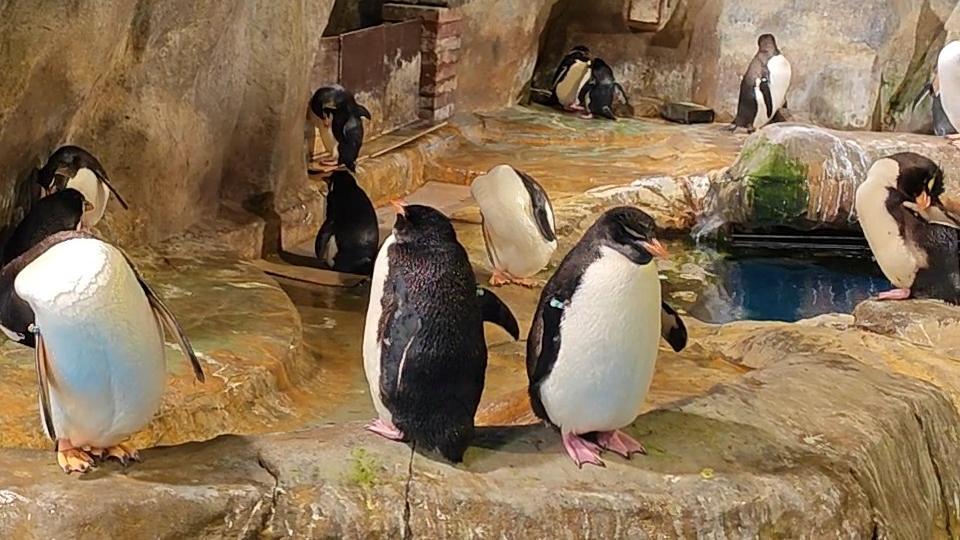Southern Rockhopper Penguin: (521, 199, 688, 472)
